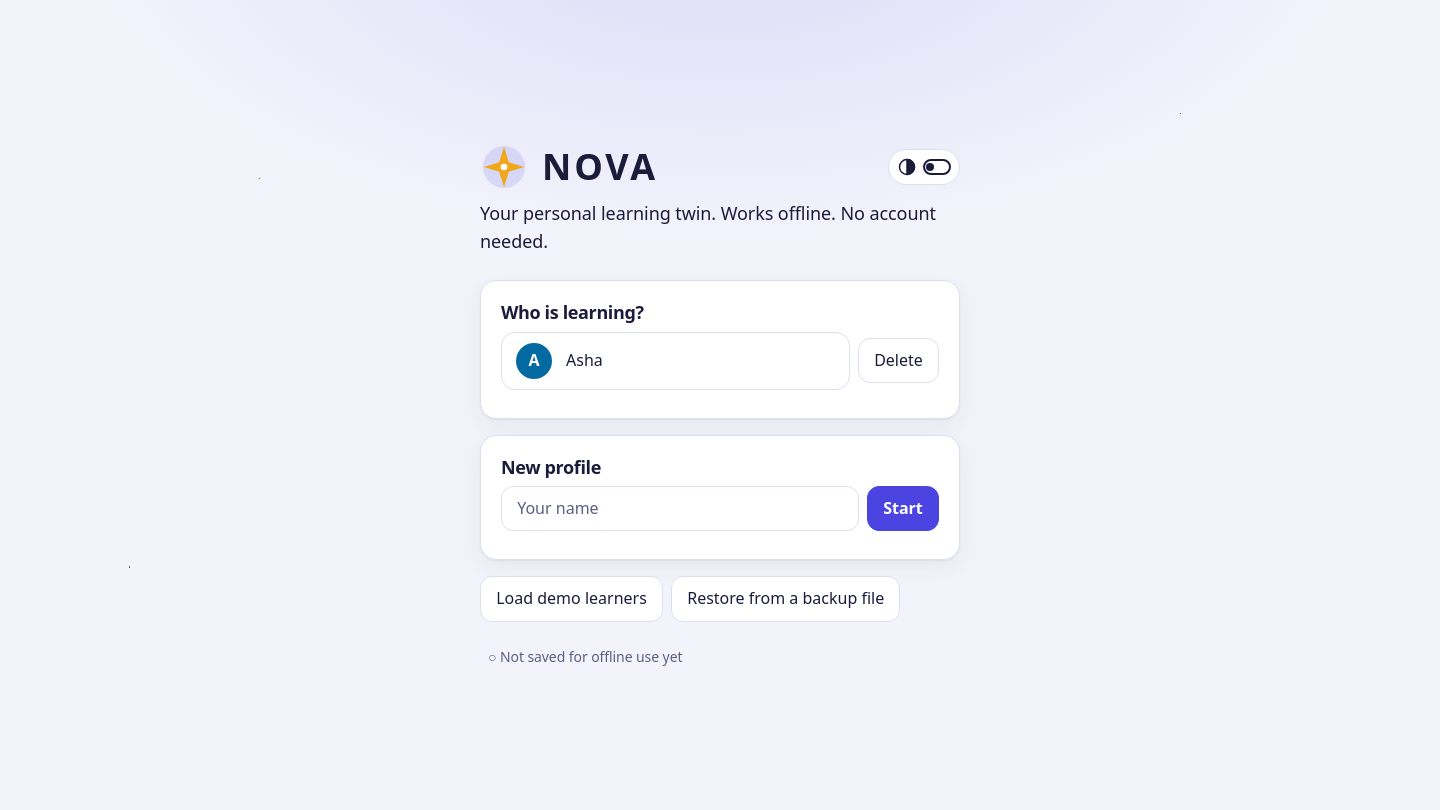
it: Home review list and the demo time control › keeps the demo tools hidden for a normal student (no ?demo)
Click the button "A Asha".
click(534, 361)  # box left=501, top=332, right=850, bottom=390
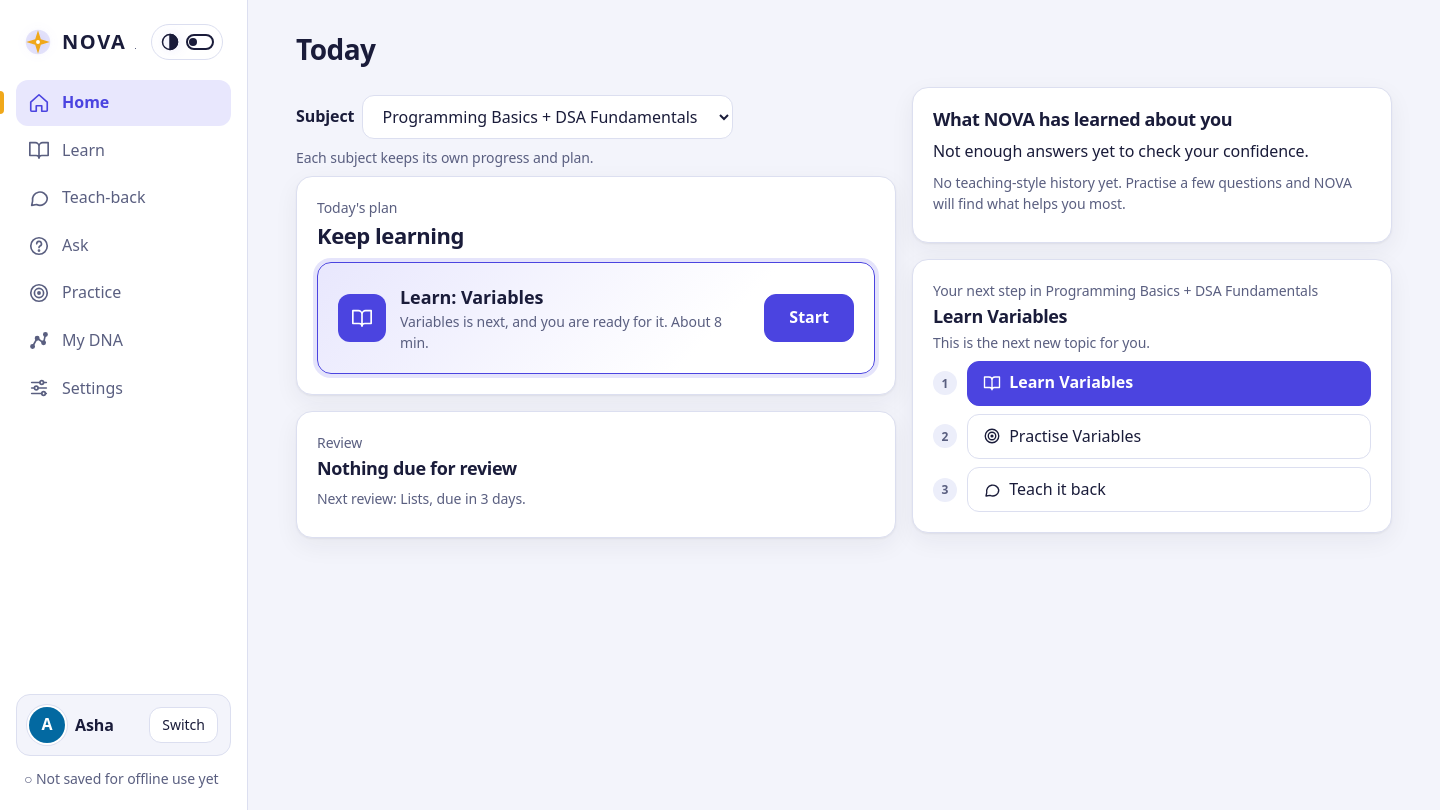
Check: the heading "Nothing due for review" is shown, box left=317, top=456, right=517, bottom=480
